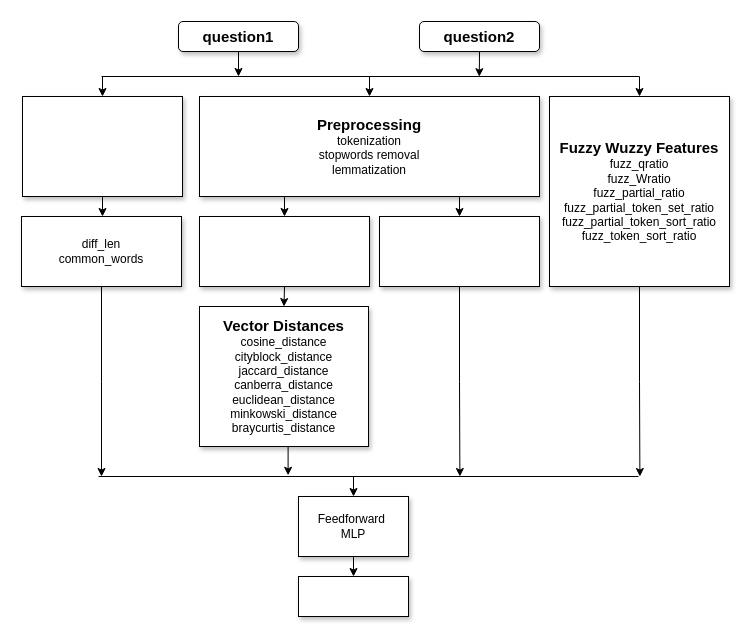
This 753x641 diagram has some shape labels left out. The shapes that lost their labels are listed below. From the top down, each one's centre as x and y in pixels, then its label:
At pixel 103 148: "Simple Features len_q1, len_q2 len_char_q1, len_char_q2 len_word_q1, len_word_q2".
At pixel 285 253: "Sentence Vector question1_vectors question2_vectors".
At pixel 460 253: "Word Mover Distance wmd norm_wmd".
At pixel 354 598: "is_duplicate".
